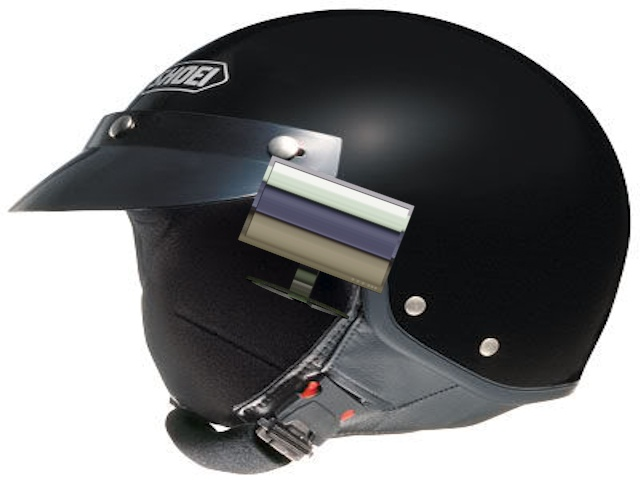monitor: (225, 153, 416, 320)
